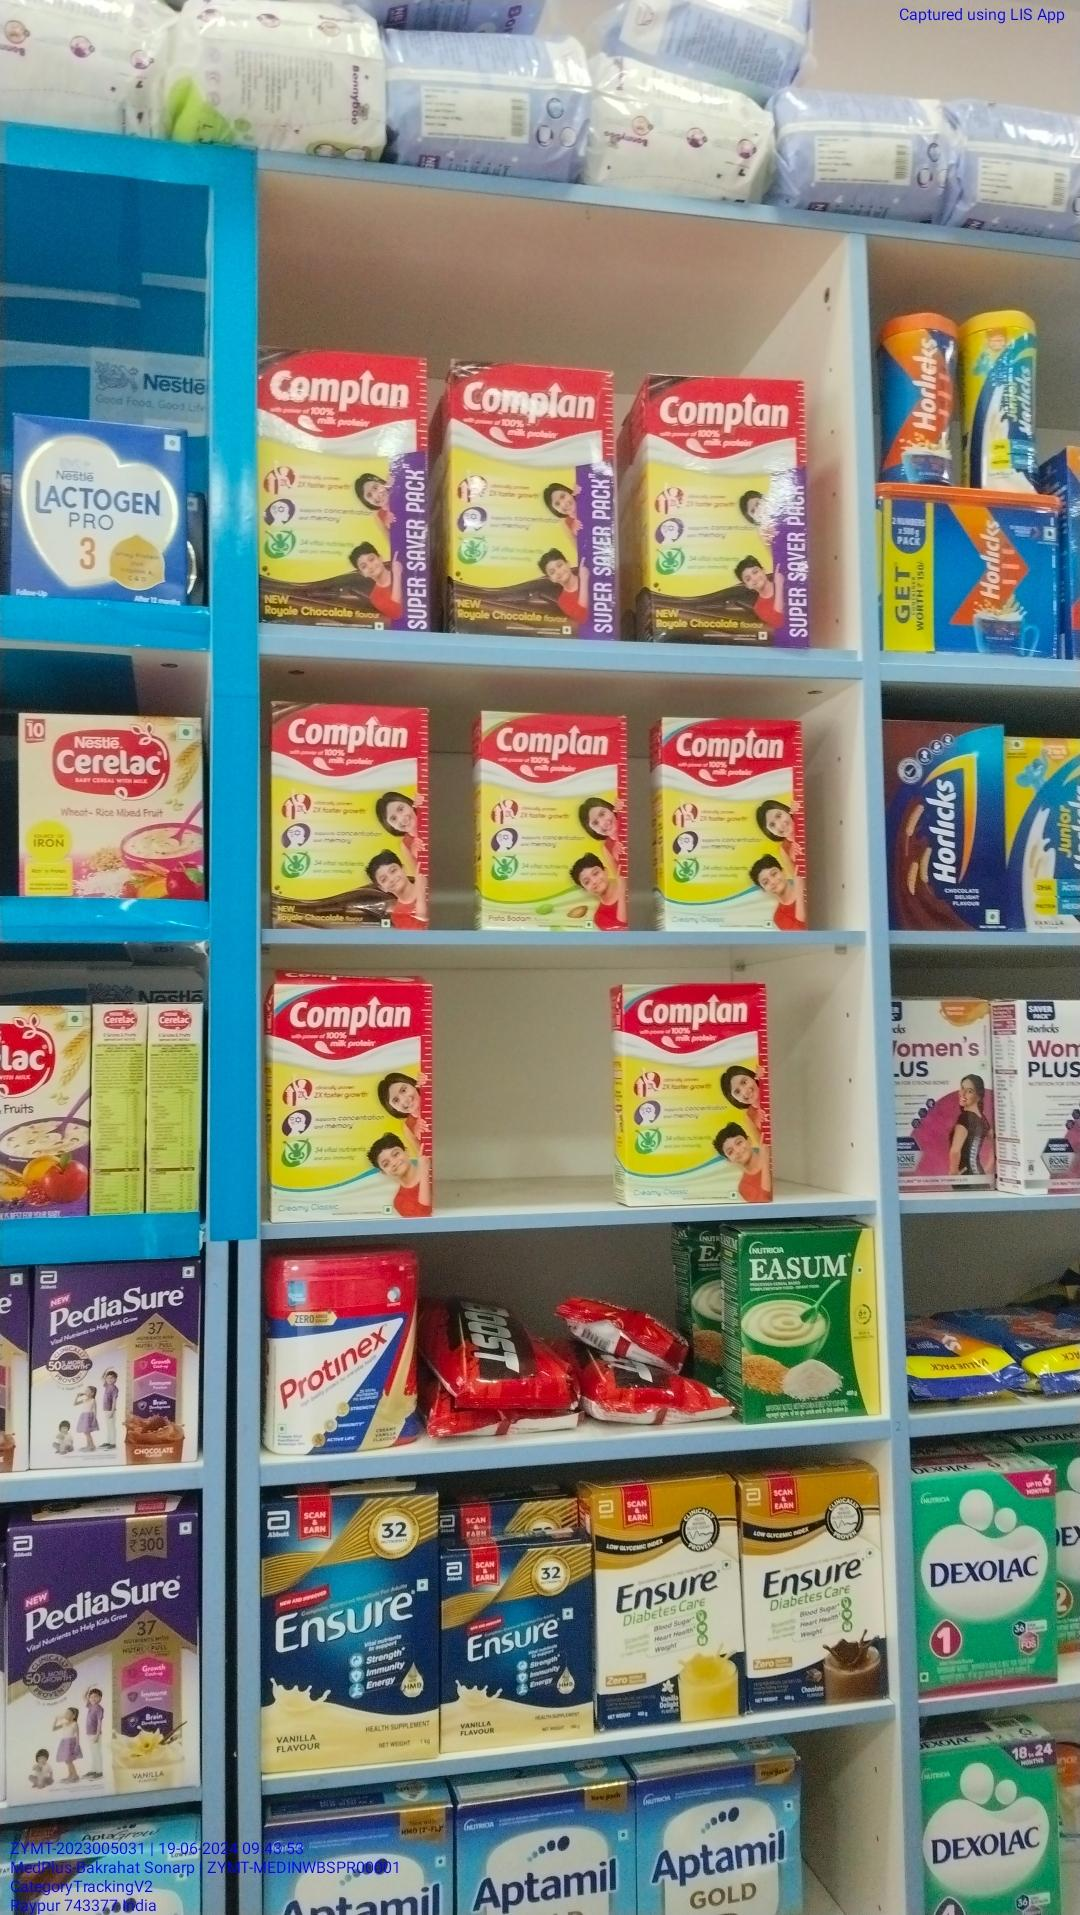COMPLAN_CREAMY_CLASSIC_500_G_PACK: (274, 981, 430, 1223), (618, 982, 773, 1206)
COMPLAN_KESAR_BADAM_200_GMS_PACK: (480, 712, 626, 934)
HORLICK_MALT_1_KG_CONTAINER: (871, 483, 1059, 662)
PROTINEX_VANILLA_400_G_JAR: (272, 1259, 418, 1456)
